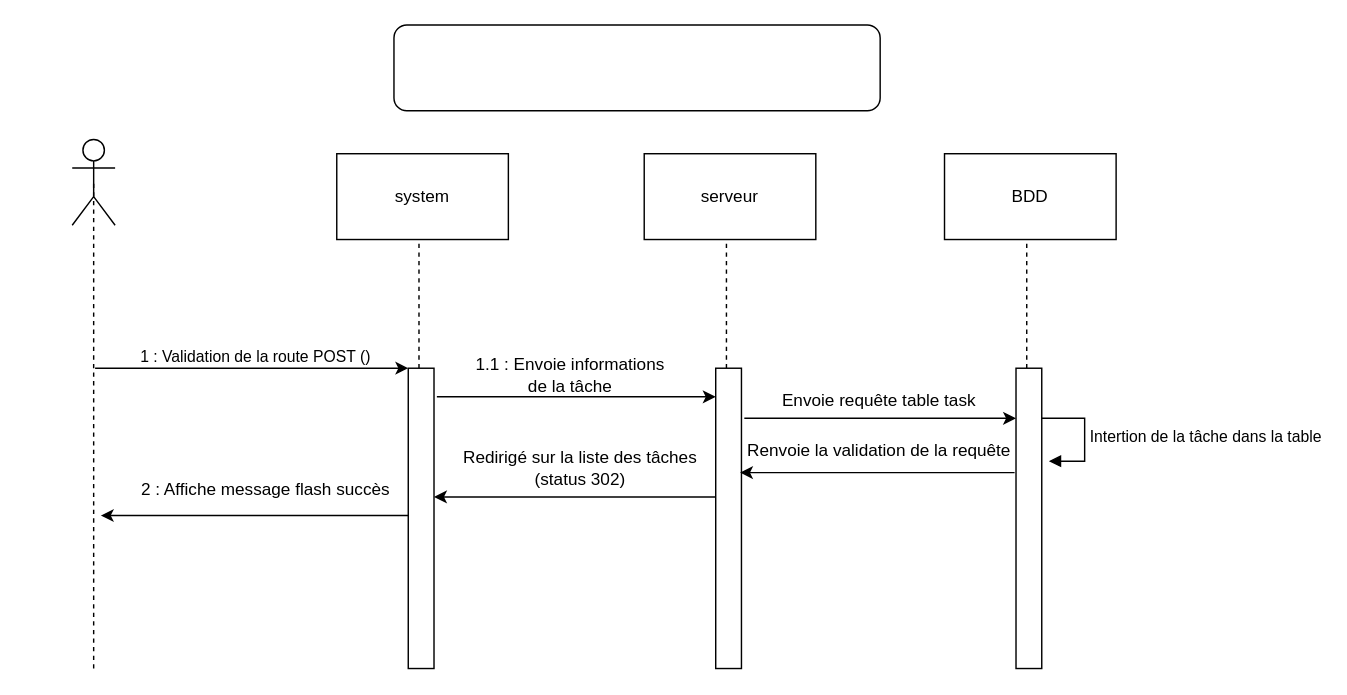
The diagram is 1347 pixels wide and 695 high, and some of its shapes have lost their labels. Here are the shapes that lost their labels. From the top down, the centre of each, then its label:
point (636, 67): Diagramme de séquence : Création d'une tâche
point (93, 181): Utilisateur ( User )
